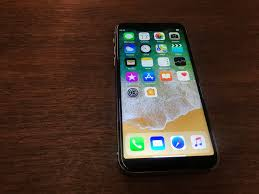iphone: (112, 15, 222, 173)
iphone10: (112, 16, 222, 174)
